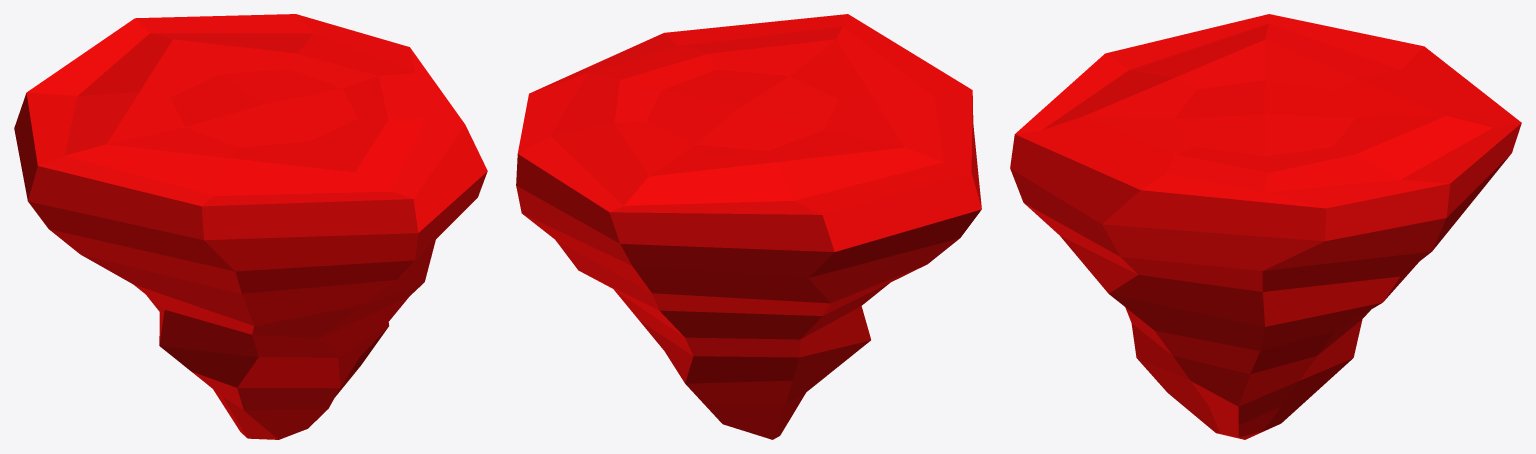
The model's file is island_noroots_low.fbx.
The picture shows the model from 3 angles, left to right: view 1: azimuth 30°, elevation 25°; view 2: azimuth 150°, elevation 25°; view 3: azimuth 270°, elevation 25°; orthographic projection. The views are drawn at different scales.
Visible parts, largest first — view 1: Island_low; view 2: Island_low; view 3: Island_low.
Part boxes in pixels (box(x1,y1,x2,y2)): Island_low: box(14, 14, 487, 439); Island_low: box(516, 14, 981, 439); Island_low: box(1010, 14, 1521, 439).
Size of the model in its own units: 61.44 by 46.02 by 66.67.
